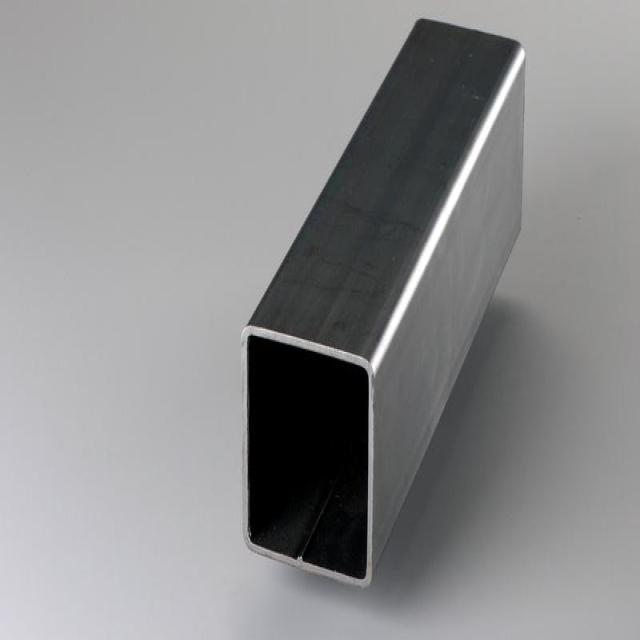Dry Waste: (216, 15, 535, 580)
